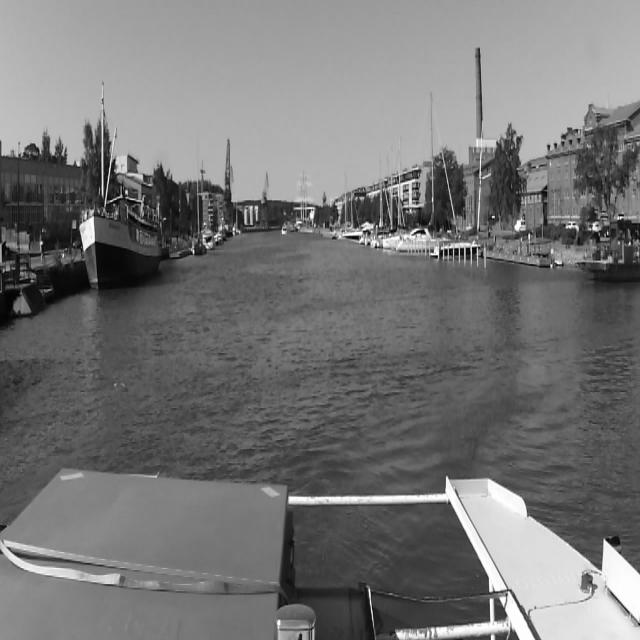ship: (80, 103, 163, 295), (396, 92, 436, 254), (571, 214, 640, 291), (191, 126, 206, 256), (431, 240, 481, 260), (342, 226, 360, 245)
